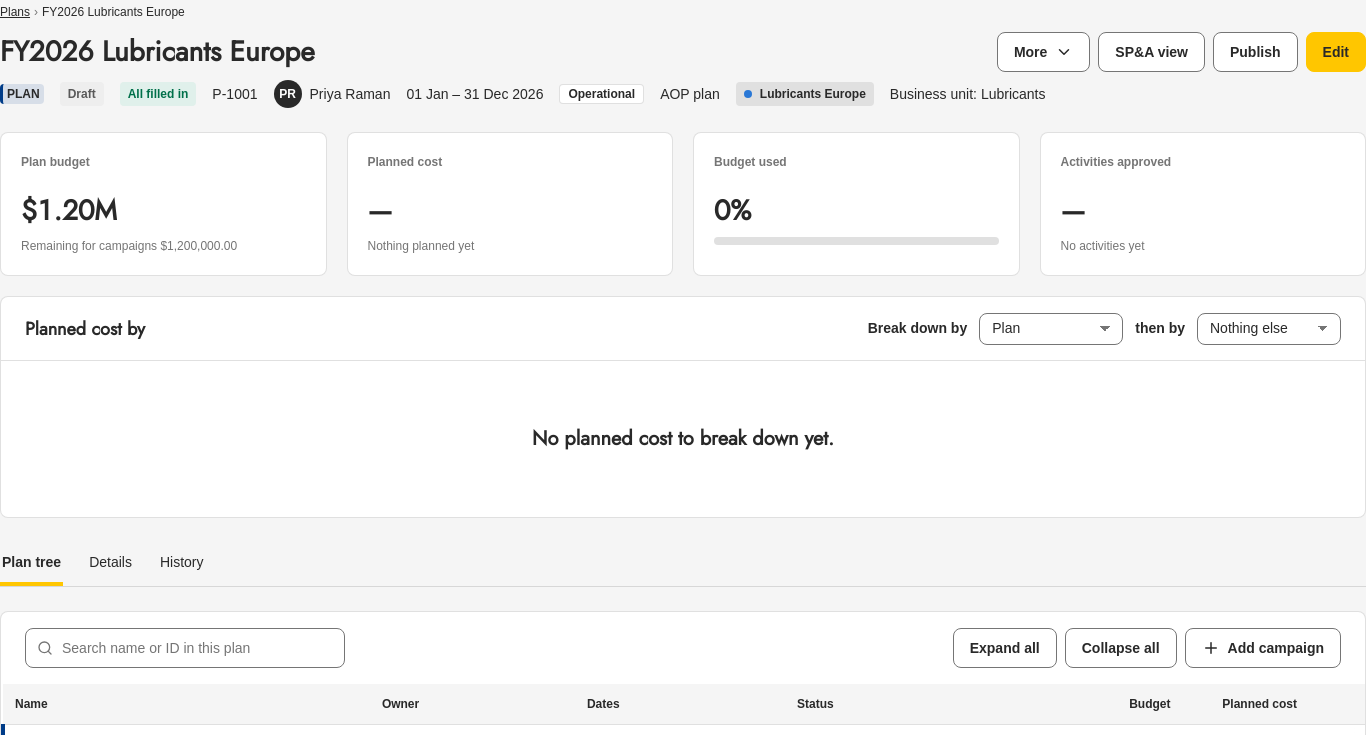
Test: PlanPage actions and history (US5, US6, FR-026 – FR-031) › copies the plan from More and opens the copy (US6#1–2, FR-026, FR-027)
The image size is (1366, 735).
Click the button "More" at (1044, 52), box [997,32,1090,72]
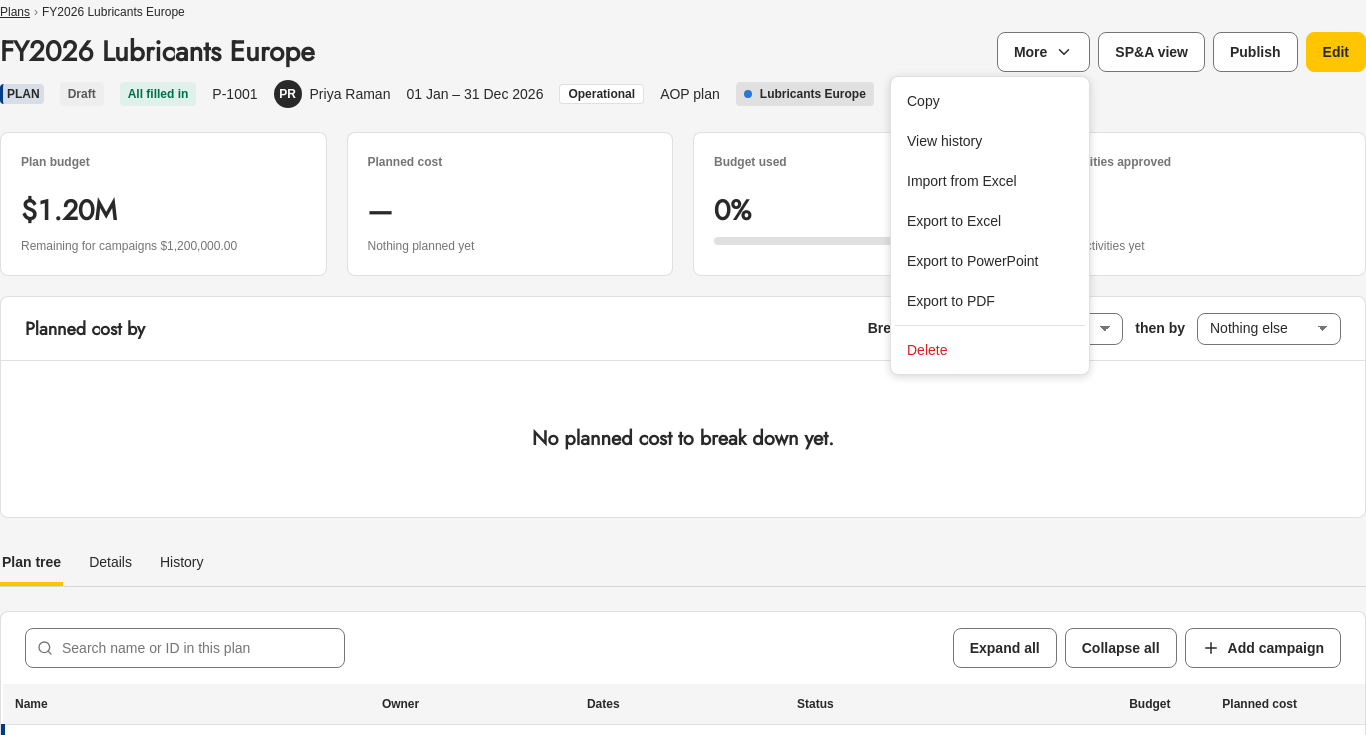
Click the menu item "Copy" at (923, 101), box [907,93,940,109]
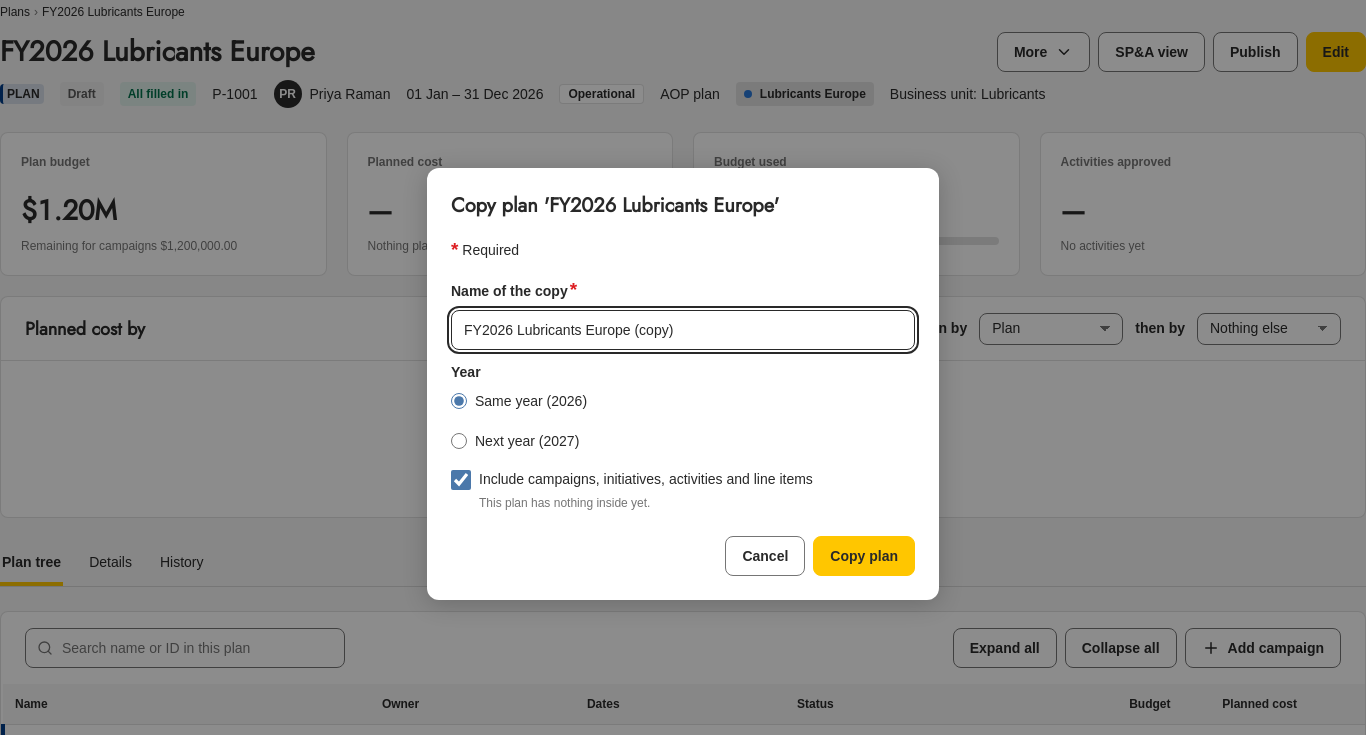
Expected: the field labelled "Name of the copy" is shown, [451,310,915,350]
Click the button "Copy plan" at (864, 556), box [813,536,915,576]
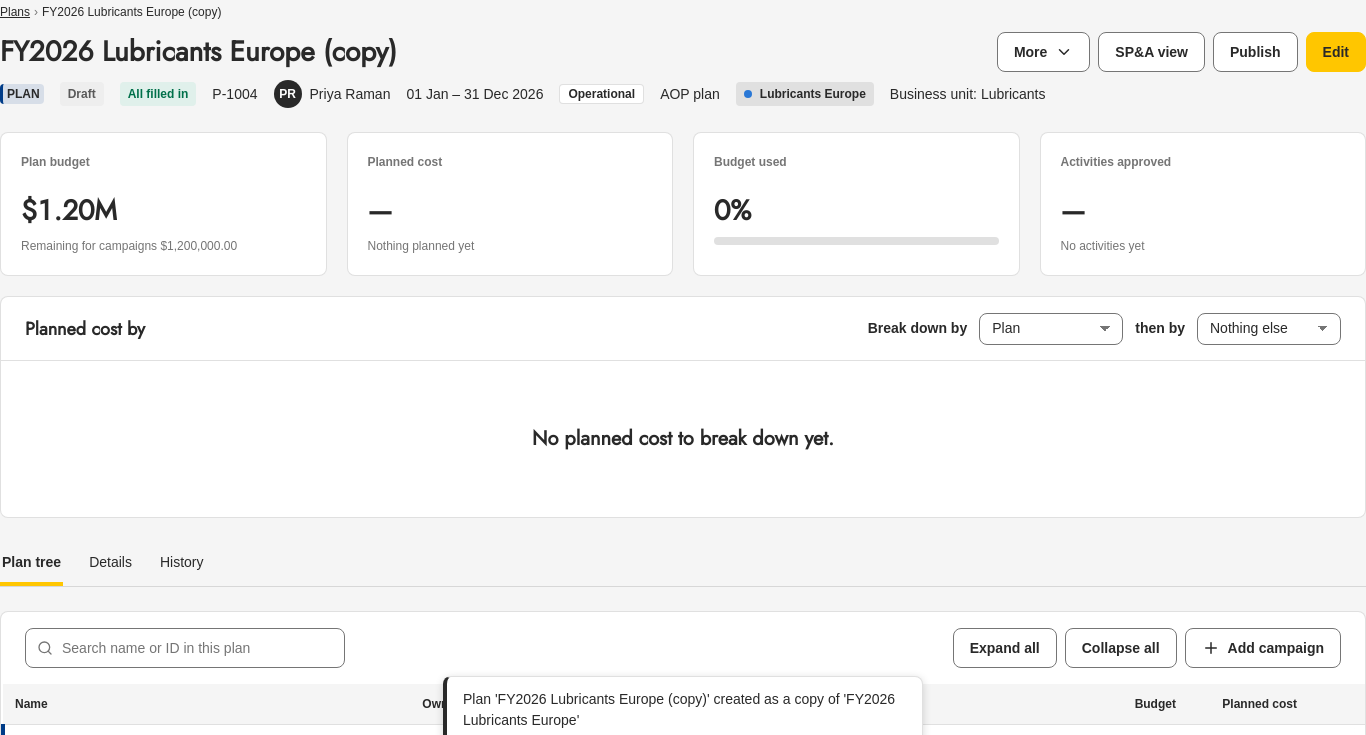
Expected: the heading "FY2026 Lubricants Europe (copy)" is shown, [0,32,397,72]
Expected: the text "Plan 'FY2026 Lubricants Europe (copy)' created as a copy of 'FY2026 Lubricants Europe'" is shown, [463,691,895,728]
